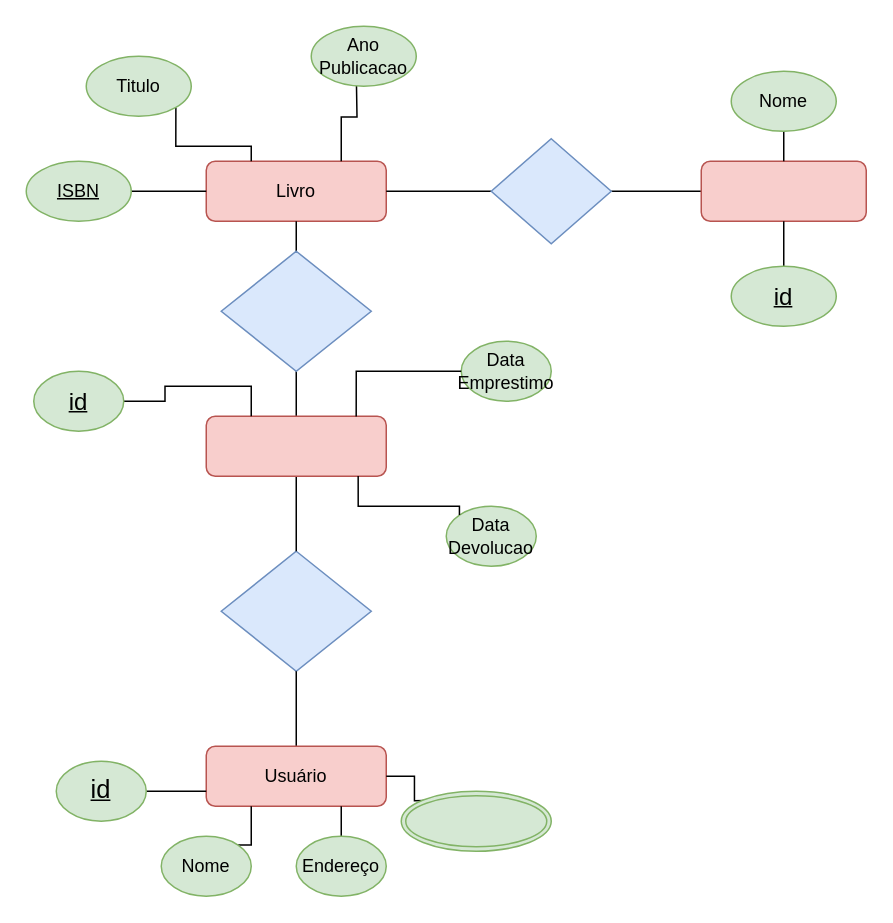
Image size: 893x923. Some labels were removed from this diagram. Here are the shapes that lost their labels. From the top down, the box of each, then its label:
(490, 137, 611, 244): escrito por
(700, 160, 866, 221): Autor
(220, 250, 371, 371): contém
(205, 415, 386, 476): Emprestimo
(220, 550, 371, 671): possui
(400, 790, 551, 851): Telefone
